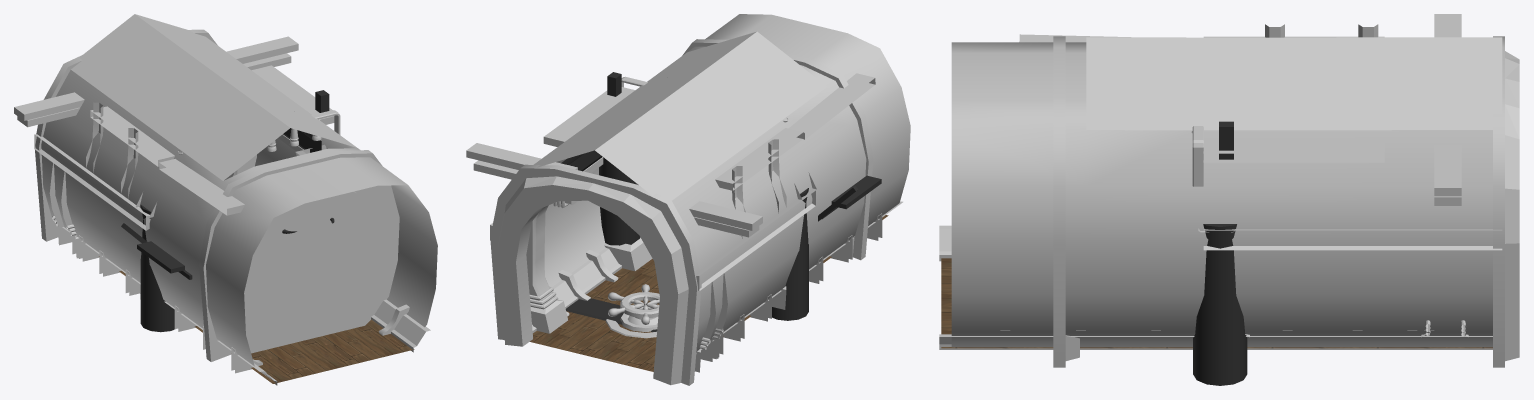
Rendered from br_env_store_A.FBX.
3 views of the same model, side by side, from view 1: azimuth 30°, elevation 25°; view 2: azimuth 150°, elevation 25°; view 3: azimuth 270°, elevation 25° (orthographic). The views are drawn at different scales.
Visible parts, largest first — view 1: Box517; view 2: Box517; view 3: Box517.
Boxes of the visible parts, bbox=[...] form: Box517: bbox=[14, 14, 437, 385]; Box517: bbox=[466, 14, 910, 385]; Box517: bbox=[939, 14, 1519, 385].
Bounding box in the file's own units: 338 × 464 × 251.
